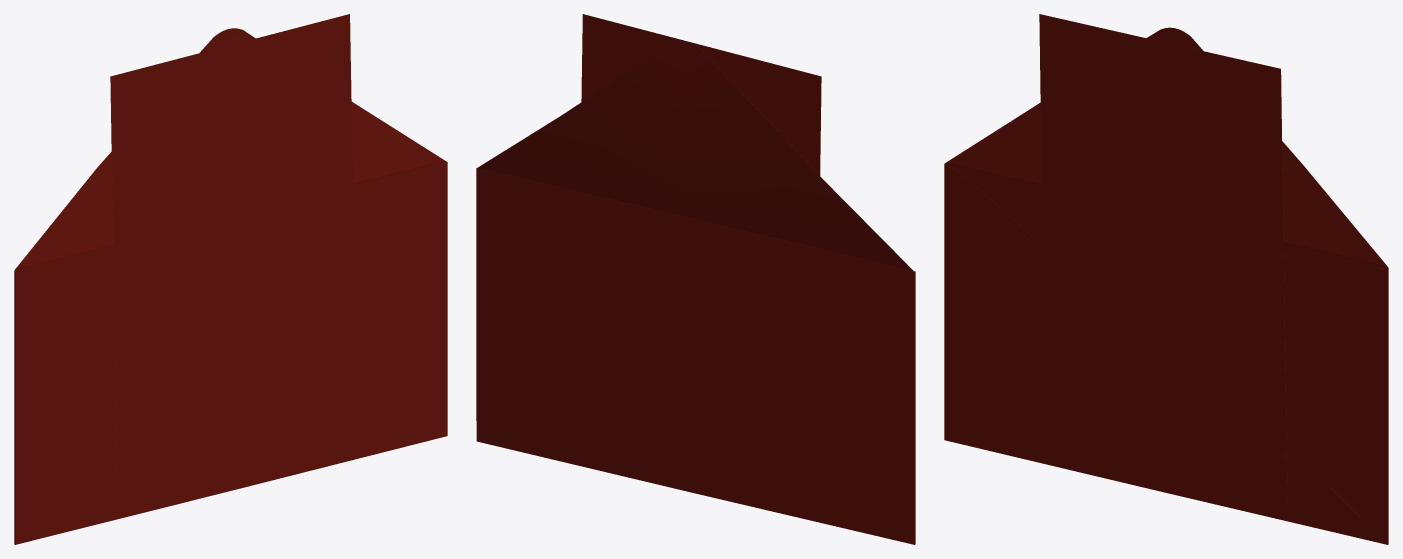
The model's file is CartaPresi.fbx.
3 renders of one model, left to right at view 1: azimuth 30°, elevation 25°; view 2: azimuth 150°, elevation 25°; view 3: azimuth 330°, elevation 25°, orthographic.
Parts seen in each view (by area): view 1: EnvelopeFREE001; view 2: EnvelopeFREE001; view 3: EnvelopeFREE001.
Boxes of the visible parts, <box> form: EnvelopeFREE001: <box>14,14,447,544</box>; EnvelopeFREE001: <box>476,14,915,544</box>; EnvelopeFREE001: <box>944,14,1388,544</box>.
Bounding box in the file's own units: 7.88 × 7.87 × 0.3011.
